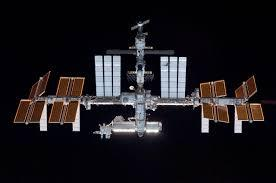solar: (92, 54, 122, 96), (162, 57, 188, 99), (32, 71, 48, 97), (14, 98, 29, 125), (30, 99, 46, 124), (51, 100, 66, 126), (70, 74, 86, 98), (65, 101, 80, 126), (55, 75, 70, 98), (214, 78, 228, 99), (251, 102, 265, 122), (246, 76, 258, 98), (216, 103, 228, 123), (202, 101, 214, 120), (200, 79, 212, 98), (235, 85, 248, 102), (236, 102, 247, 121)
